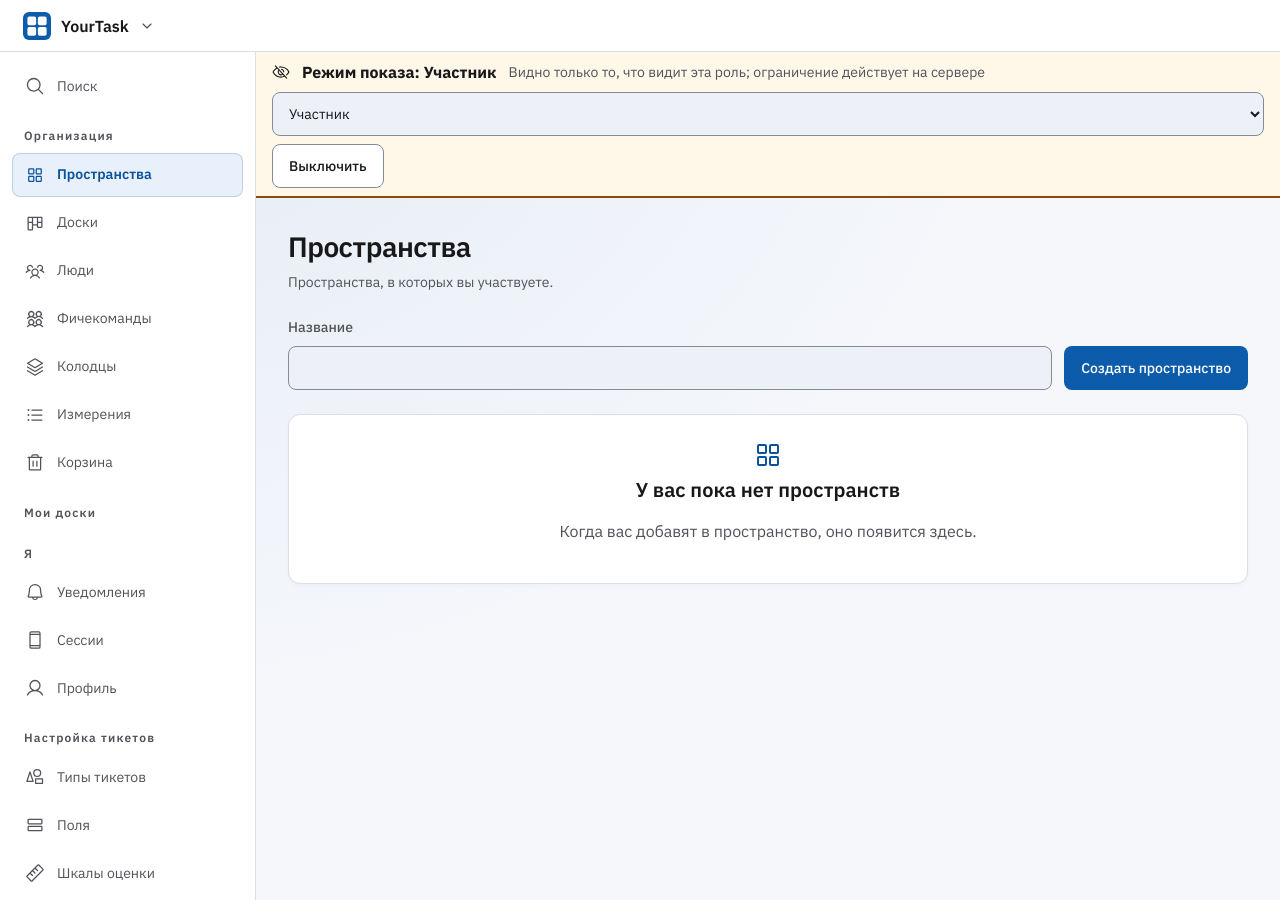
Scenario: active view context › the retained banner names the active role and exits it
Expected: the text "Режим показа: Участник" is shown, [302,60,496,84]
Click the button "Выключить" at (328, 166), box [272,144,384,188]
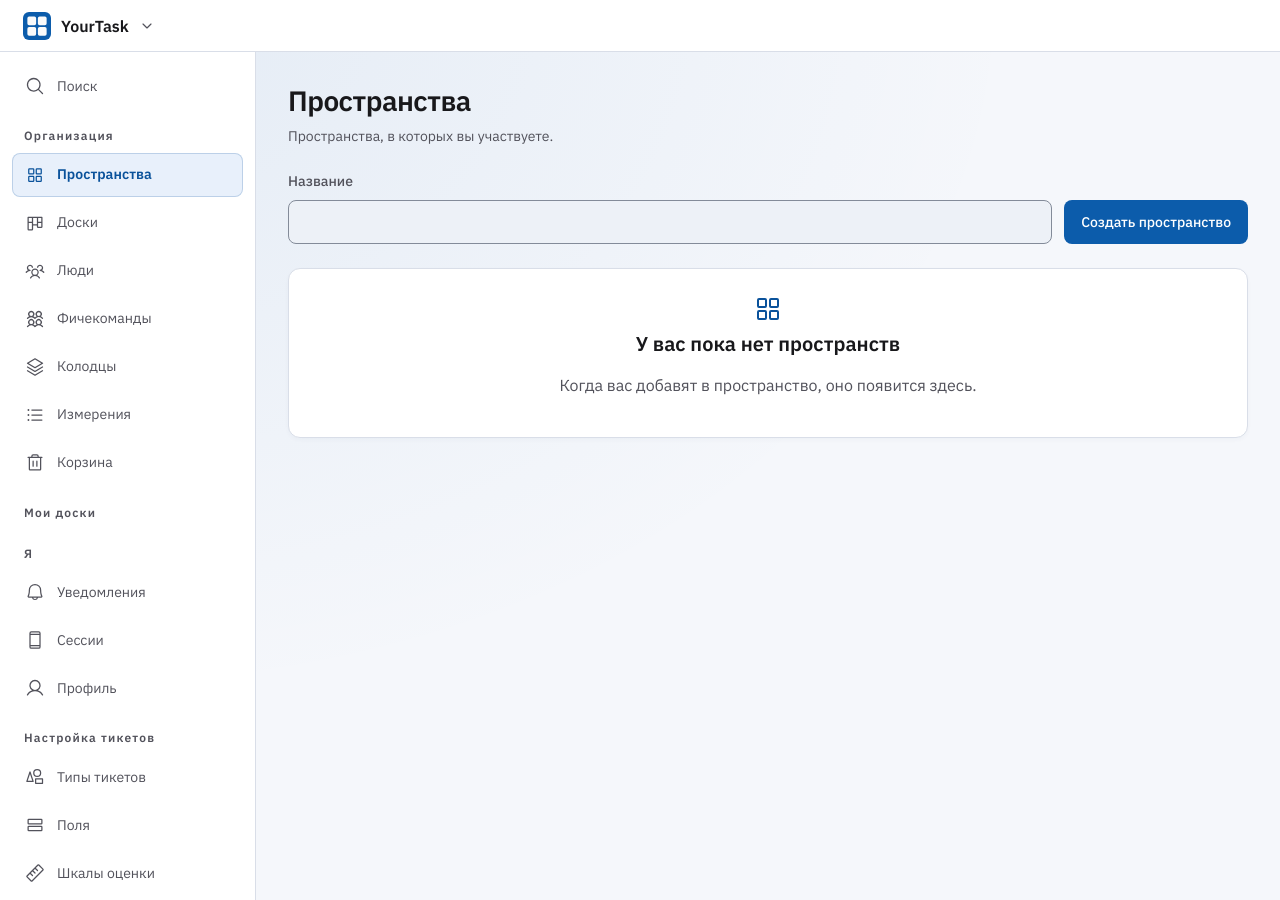
Expected: the text "Режим показа: Участник" is gone
